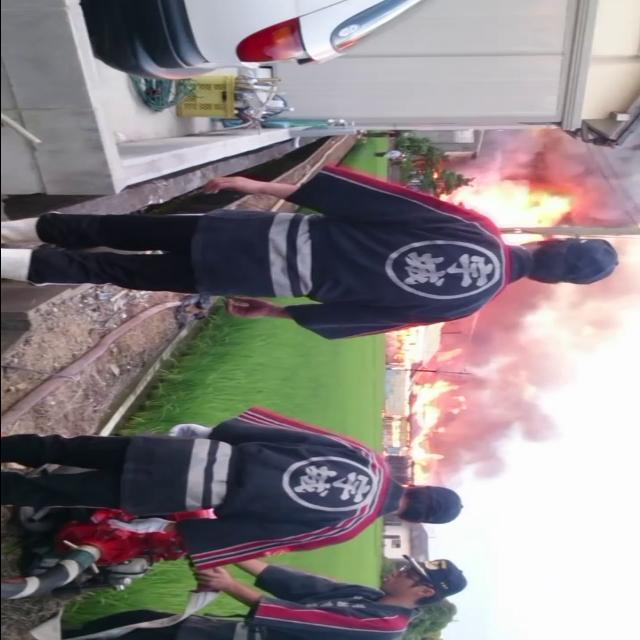Fire: (443, 181, 569, 243), (409, 382, 464, 466), (396, 322, 454, 372)
